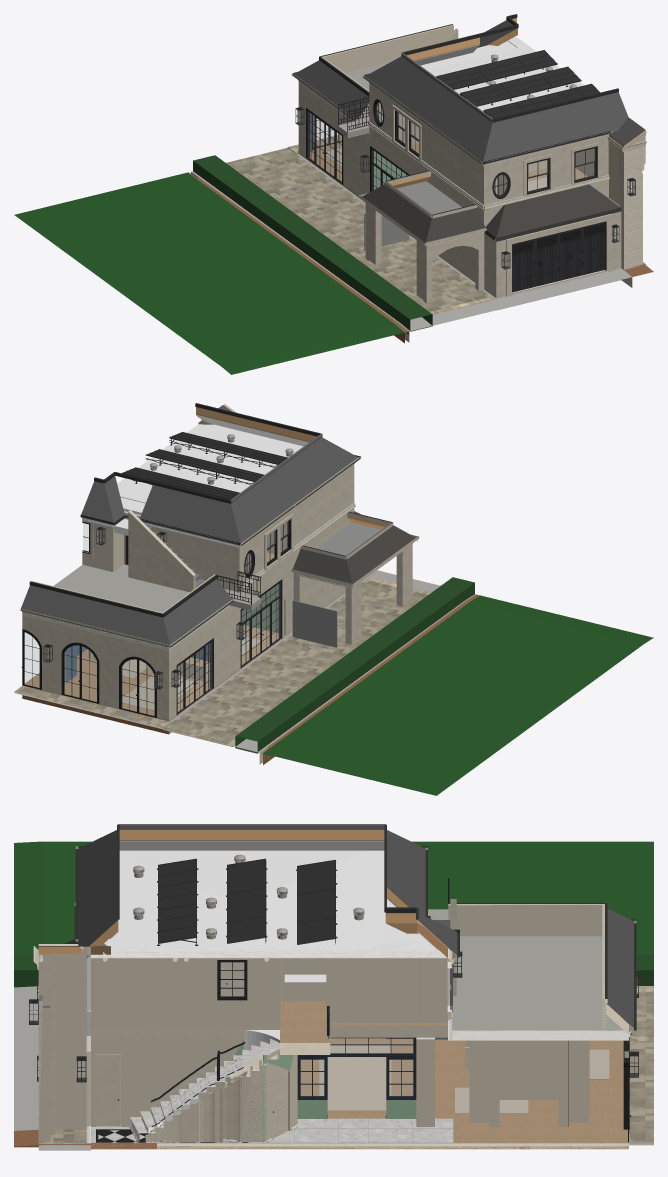
Rendered from elevation-west-21d2935e560d.glb.
3 renders of one model, top to bottom at view 1: azimuth 30°, elevation 25°; view 2: azimuth 150°, elevation 25°; view 3: azimuth 270°, elevation 25°, orthographic. The views are drawn at different scales.
Parts seen in each view (by area): view 1: elevation-west-aee2d046b0172b1e, elevation-west-27d577fbd7f2ff4b, elevation-west-2d4e160723097ac3, elevation-west-25c3ff3929e46046, elevation-west-0cae3eb2f2d52fad, elevation-west-2f311b438f02a7c5, elevation-west-a9e726e5451ff895, elevation-west-8ae50a6395ceb8a4, elevation-west-312b4ac1be39223d, elevation-west-039192b0560cfac3, elevation-west-df3e1f21720b0c39, elevation-west-32021a86c784f0e0 (+27 smaller); view 2: elevation-west-aee2d046b0172b1e, elevation-west-27d577fbd7f2ff4b, elevation-west-2d4e160723097ac3, elevation-west-969b861f9850351e, elevation-west-0cae3eb2f2d52fad, elevation-west-d56ee2a9d54b1fc2, elevation-west-5febae1537653d02, elevation-west-312b4ac1be39223d, elevation-west-039192b0560cfac3, elevation-west-ded88bd99590d377, elevation-west-7511cdbc362aca5e, elevation-west-3b0077416469e01b (+29 smaller); view 3: elevation-west-aee2d046b0172b1e, elevation-west-d56ee2a9d54b1fc2, elevation-west-ded88bd99590d377, elevation-west-746250f96522f643, elevation-west-3b0077416469e01b, elevation-west-85f0fd939e0fcc78, elevation-west-7f59123d155b94ce, elevation-west-5e296beffb47d853, elevation-west-ed40dd465e6d599f, elevation-west-18b8f93424e26a44, elevation-west-2575515a05775d9e, elevation-west-871e2e831c6190fa (+51 smaller).
Part boxes in pixels (x1,y1,x2,y2): elevation-west-aee2d046b0172b1e: (14, 172, 653, 374); elevation-west-27d577fbd7f2ff4b: (226, 148, 494, 314); elevation-west-2d4e160723097ac3: (193, 155, 432, 331); elevation-west-25c3ff3929e46046: (483, 92, 628, 161); elevation-west-0cae3eb2f2d52fad: (365, 56, 492, 161); elevation-west-2f311b438f02a7c5: (512, 221, 606, 292); elevation-west-a9e726e5451ff895: (496, 184, 621, 241); elevation-west-8ae50a6395ceb8a4: (191, 153, 632, 342); elevation-west-312b4ac1be39223d: (369, 83, 484, 204); elevation-west-039192b0560cfac3: (298, 83, 370, 195); elevation-west-df3e1f21720b0c39: (484, 136, 608, 205); elevation-west-32021a86c784f0e0: (322, 25, 453, 72); elevation-west-aee2d046b0172b1e: (22, 594, 653, 795); elevation-west-27d577fbd7f2ff4b: (163, 577, 431, 746); elevation-west-2d4e160723097ac3: (235, 577, 474, 753); elevation-west-969b861f9850351e: (22, 616, 165, 719); elevation-west-0cae3eb2f2d52fad: (231, 437, 357, 542); elevation-west-d56ee2a9d54b1fc2: (117, 424, 303, 503); elevation-west-5febae1537653d02: (21, 585, 169, 644); elevation-west-312b4ac1be39223d: (239, 464, 354, 586); elevation-west-039192b0560cfac3: (166, 606, 240, 720); elevation-west-ded88bd99590d377: (54, 564, 239, 612); elevation-west-7511cdbc362aca5e: (128, 510, 195, 592); elevation-west-3b0077416469e01b: (22, 636, 273, 721); elevation-west-aee2d046b0172b1e: (14, 841, 653, 1149); elevation-west-d56ee2a9d54b1fc2: (104, 850, 417, 949); elevation-west-ded88bd99590d377: (452, 936, 623, 1030); elevation-west-746250f96522f643: (91, 958, 280, 1027); elevation-west-3b0077416469e01b: (157, 1038, 628, 1143); elevation-west-85f0fd939e0fcc78: (91, 1039, 243, 1126); elevation-west-7f59123d155b94ce: (330, 958, 419, 1022); elevation-west-5e296beffb47d853: (55, 955, 86, 1129); elevation-west-ed40dd465e6d599f: (489, 1040, 567, 1126); elevation-west-18b8f93424e26a44: (448, 904, 604, 936); elevation-west-2575515a05775d9e: (91, 958, 330, 1054); elevation-west-871e2e831c6190fa: (319, 1045, 391, 1110).
Bounding box in the file's own units: 22.2 × 8.45 × 19.78.
Materials: 70 (19 with a texture image).
